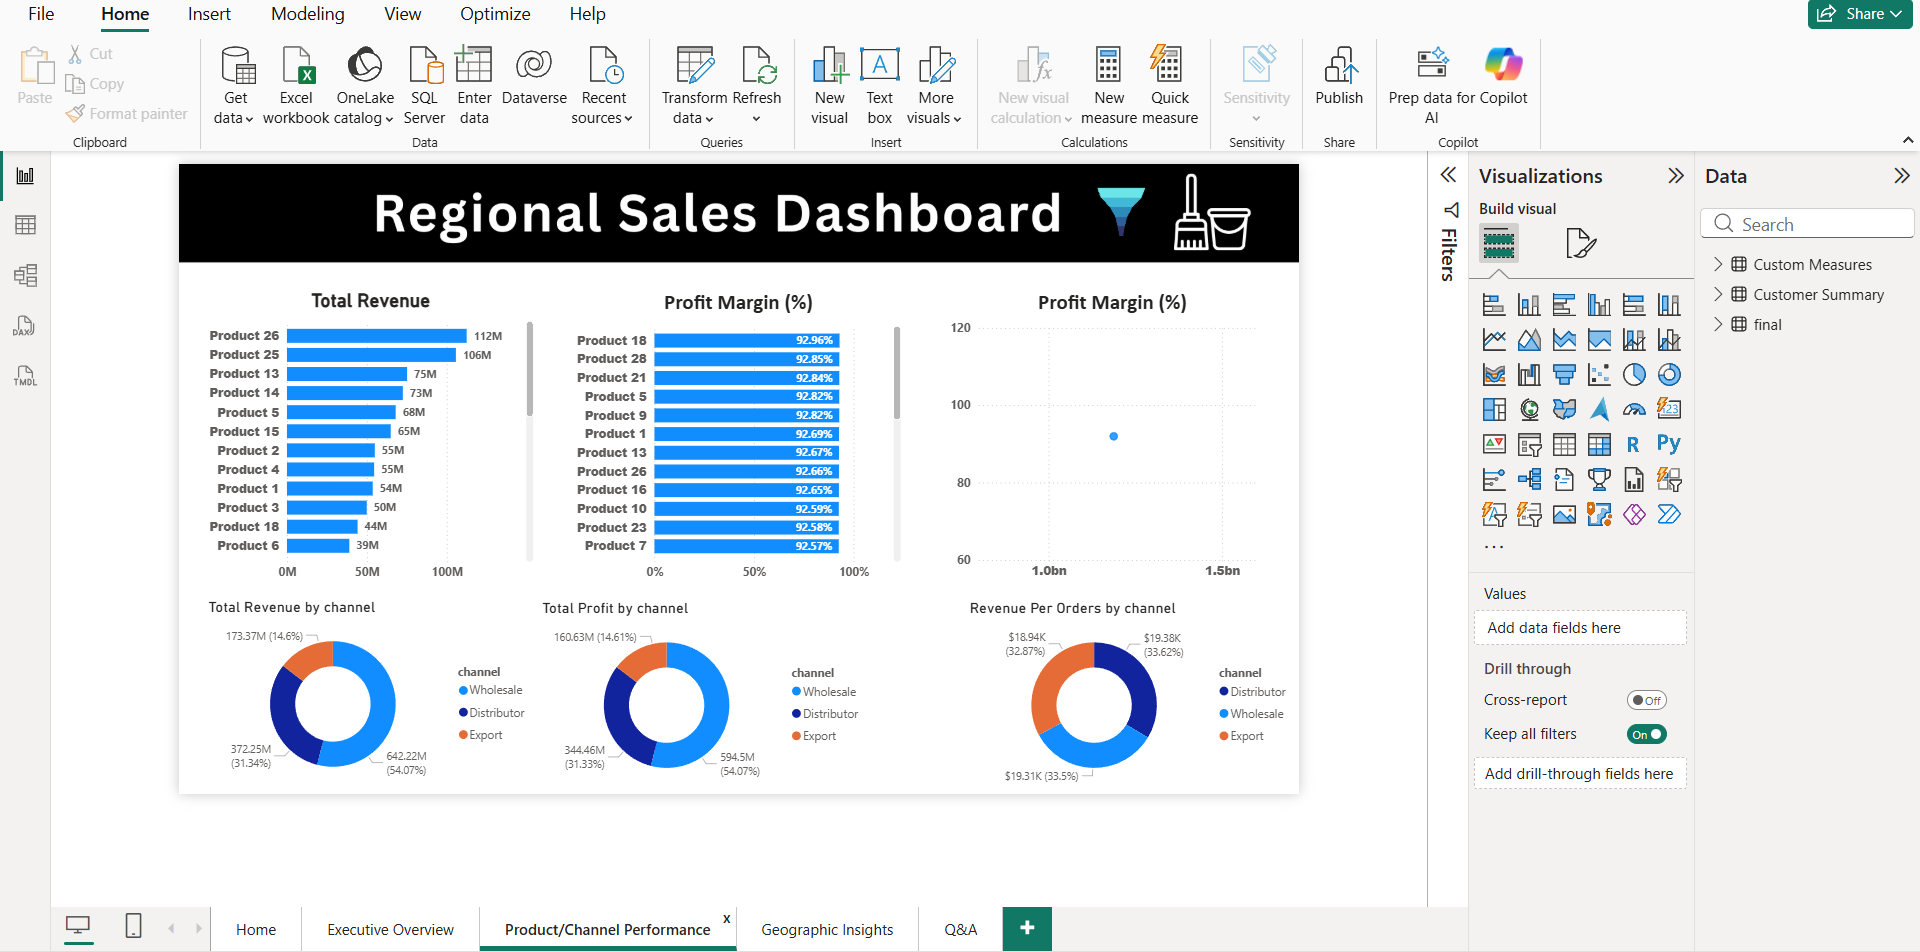

This screenshot's page, from the dashboard's own definition file:
{"tool":"powerbi","page":{"name":"Product/Channel Performance","canvas":[1280,720],"ordinal":2},"visuals":[{"type":"barChart","title":"Total Revenue","fields":{"Category":["final.product_name"],"Y":["Custom Measures (2).Total Revenue"]},"box":[28.6,142.9,381.4,342.9],"z":0},{"type":"barChart","title":"Profit Margin (%)","fields":{"Category":["final.product_name"],"Y":["Custom Measures (2).Profit Margin %"]},"box":[448.6,142.9,381.4,342.9],"z":1000},{"type":"scatterChart","title":"Profit Margin (%)","fields":{"X":["Custom Measures (2).Total Revenue"],"Y":["Custom Measures (2).AVG Profit Margin %"]},"box":[875,142.9,382.1,342.9],"z":1001},{"type":"donutChart","fields":{"Category":["final.channel"],"Y":["Custom Measures (2).Total Revenue"]},"box":[29,496,381,224],"z":1002},{"type":"donutChart","fields":{"Category":["final.channel"],"Y":["Custom Measures (2).Total Profit"]},"box":[409.5,496.4,381,223.8],"z":1003},{"type":"donutChart","fields":{"Category":["final.channel"],"Y":["Custom Measures (2).Revenue Per Orders"]},"box":[898.8,496.4,381,223.8],"z":1004}]}

Visuals, with their boxes on the page's 1280x720 design canvas (x1, y1, x2, y2). These are canvas units, not pixel positions in the 1920x952 screenshot, which may show the page scaled, cropped or inside an application window:
"Total Revenue" barChart: 29/143/410/486
"Profit Margin (%)" barChart: 449/143/830/486
"Profit Margin (%)" scatterChart: 875/143/1257/486
donutChart - final.channel x Custom Measures (2).Total Revenue: 29/496/410/720
donutChart - final.channel x Custom Measures (2).Total Profit: 410/496/790/720
donutChart - final.channel x Custom Measures (2).Revenue Per Orders: 899/496/1280/720
